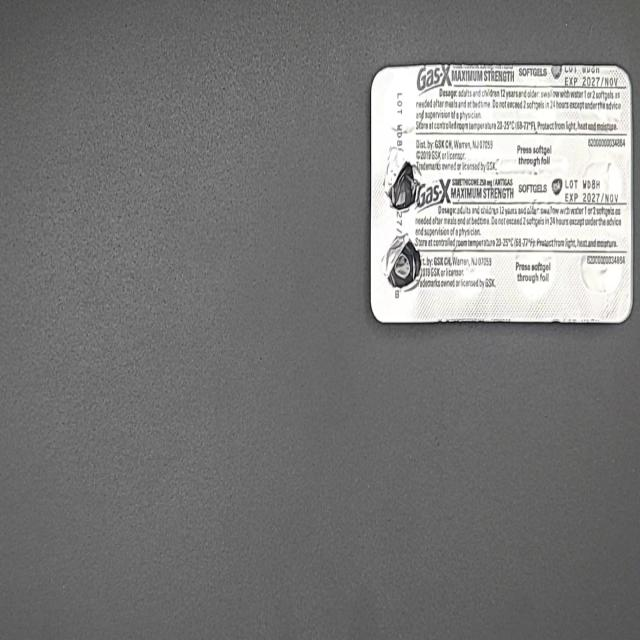defect: (381, 145, 424, 214), (378, 232, 423, 293)
